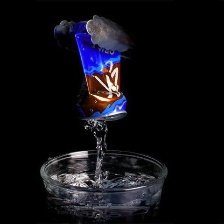can: (65, 16, 138, 130)
glass: (32, 144, 173, 221)
